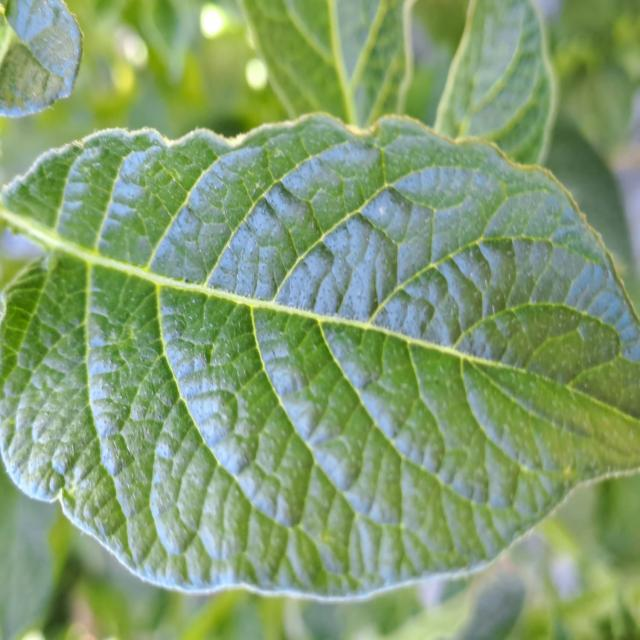healthy: (1, 110, 638, 603)
